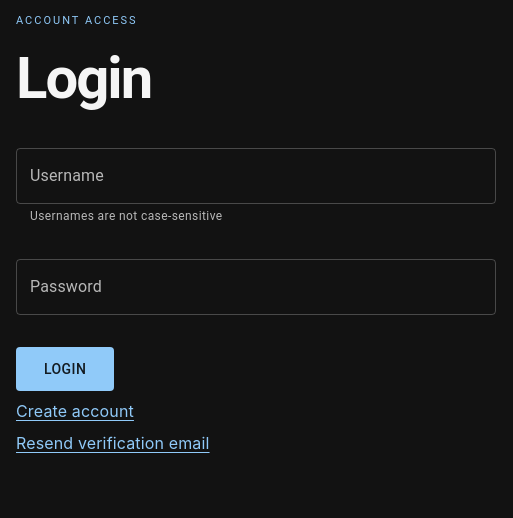
Test: retains login failure and re-enables the action
Click the button "Login" at (65, 369), box [16,347,114,391]
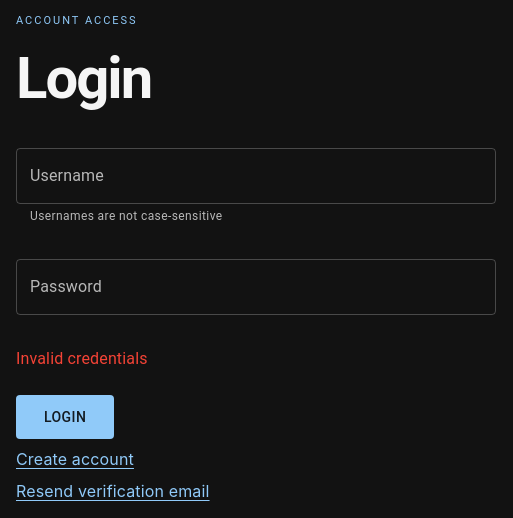
Check: the button "Login" is enabled, box [16,395,114,439]
Check: the text "Invalid credentials" is shown, box [16,349,148,368]
